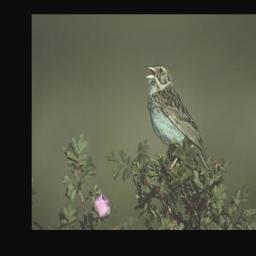Sparrow: (144, 57, 213, 184)
